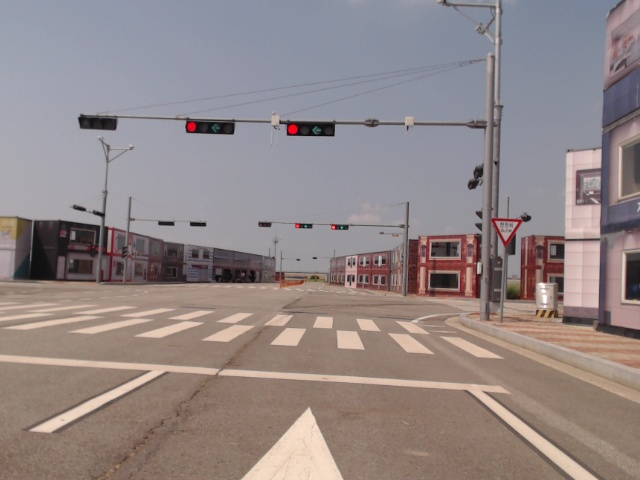left_green_4: (186, 121, 234, 135), (287, 124, 335, 137)
